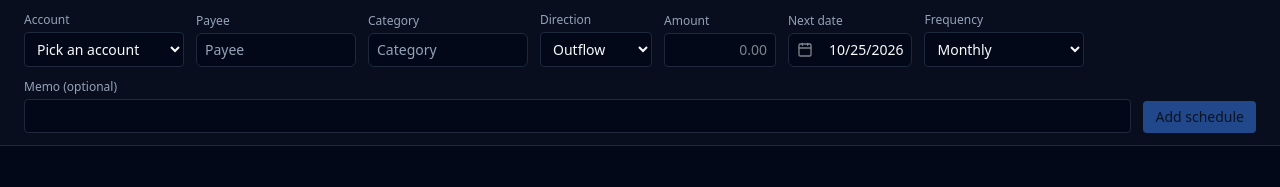
Test: ScheduleForm › cannot be sent until it has an account and an amount
Expected: the button "Add schedule" is disabled, [1143,101,1256,133]
Select "Checking" in the dropdown labelled "Account" at (104,50), box [24,32,184,67]
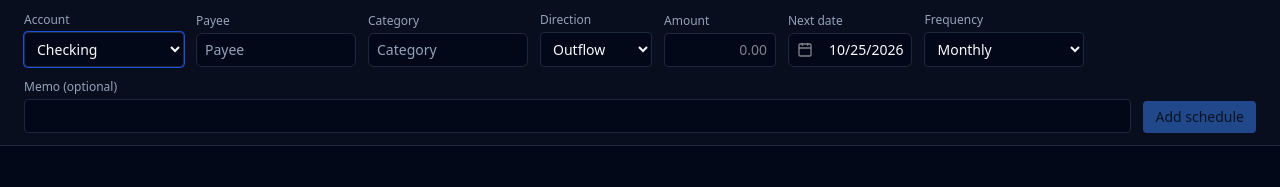
Expected: the button "Add schedule" is disabled, [1143,101,1256,133]
Type "25+" into the field labelled "Amount".
click(720, 50); type("25+")  # box [664,33,776,67]
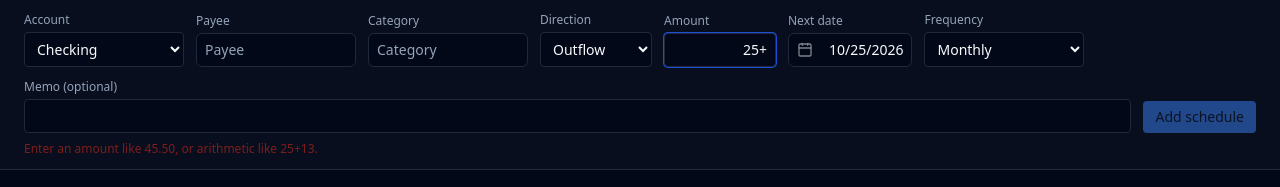
Expected: the button "Add schedule" is disabled, [1143,101,1256,133]
Now the text "Enter an amount like 45.50, or arithmetic like 25+13." is shown, box [24,140,318,157]
